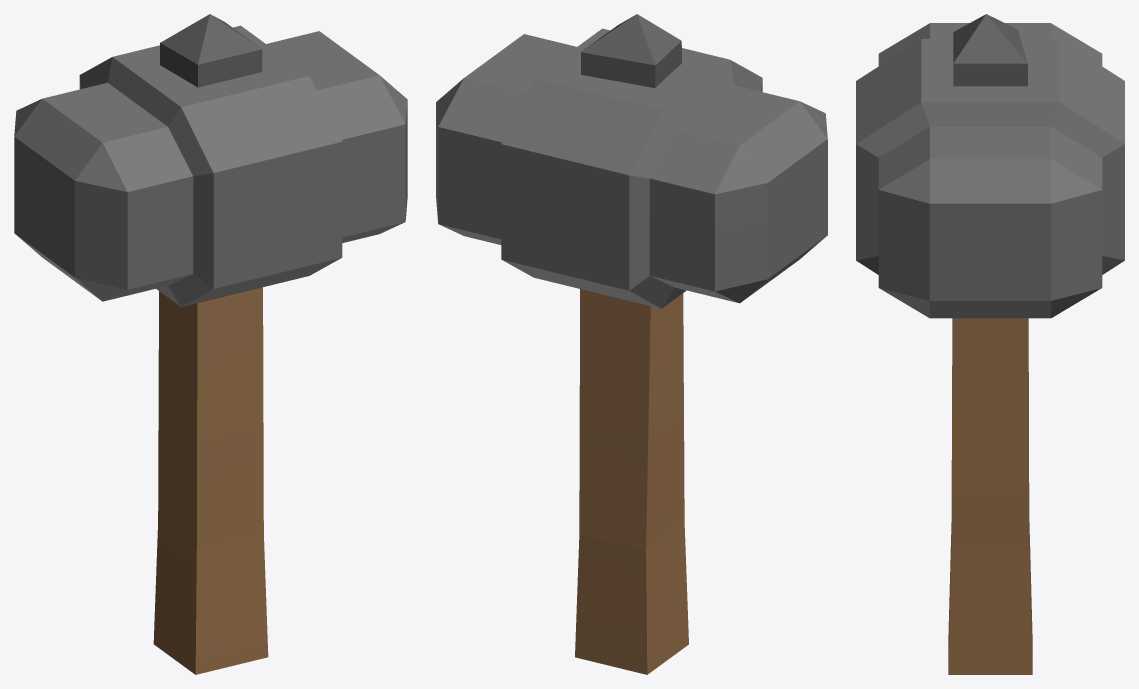
File: Hammer_C.fbx
3 views of the same model, side by side, from view 1: azimuth 30°, elevation 25°; view 2: azimuth 150°, elevation 25°; view 3: azimuth 270°, elevation 25° (orthographic).
Parts seen in each view (by area): view 1: Hammer_C; view 2: Hammer_C; view 3: Hammer_C.
Part boxes in pixels (x1,y1,x2,y2): Hammer_C: (14, 14, 407, 674); Hammer_C: (436, 14, 827, 674); Hammer_C: (856, 14, 1124, 674).
Size of the model in its own units: 30.47 by 55.87 by 21.22.
